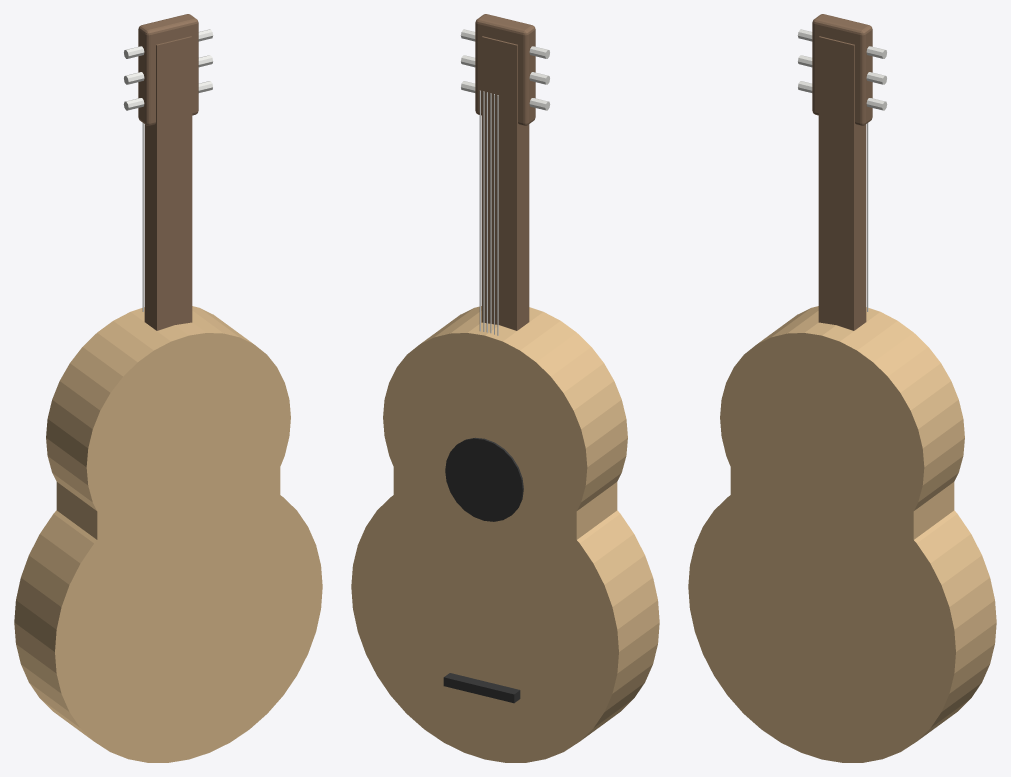
The model's file is s19-gitar-akustik.glb.
3 renders of one model, left to right at view 1: azimuth 30°, elevation 25°; view 2: azimuth 150°, elevation 25°; view 3: azimuth 330°, elevation 25°, orthographic.
Visible parts, largest first — view 1: EX_unri:gitar-kayu, EX_unri:gitar-leher, EX_unri:senar; view 2: EX_unri:gitar-kayu, EX_unri:gitar-leher, EX_unri:gitar-hitam, EX_unri:senar; view 3: EX_unri:gitar-kayu, EX_unri:gitar-leher, EX_unri:senar.
Boxes of the visible parts, x1,y1,x2,y2 form: EX_unri:gitar-kayu: (14,306,322,762); EX_unri:gitar-leher: (138,14,198,330); EX_unri:senar: (123,29,213,311); EX_unri:gitar-kayu: (351,306,659,762); EX_unri:gitar-leher: (475,14,535,330); EX_unri:gitar-hitam: (443,437,523,703); EX_unri:senar: (460,29,550,335); EX_unri:gitar-kayu: (688,306,996,762); EX_unri:gitar-leher: (812,14,872,330); EX_unri:senar: (797,29,887,311).
Size of the model in its own units: 0.38 by 0.98 by 0.115.
